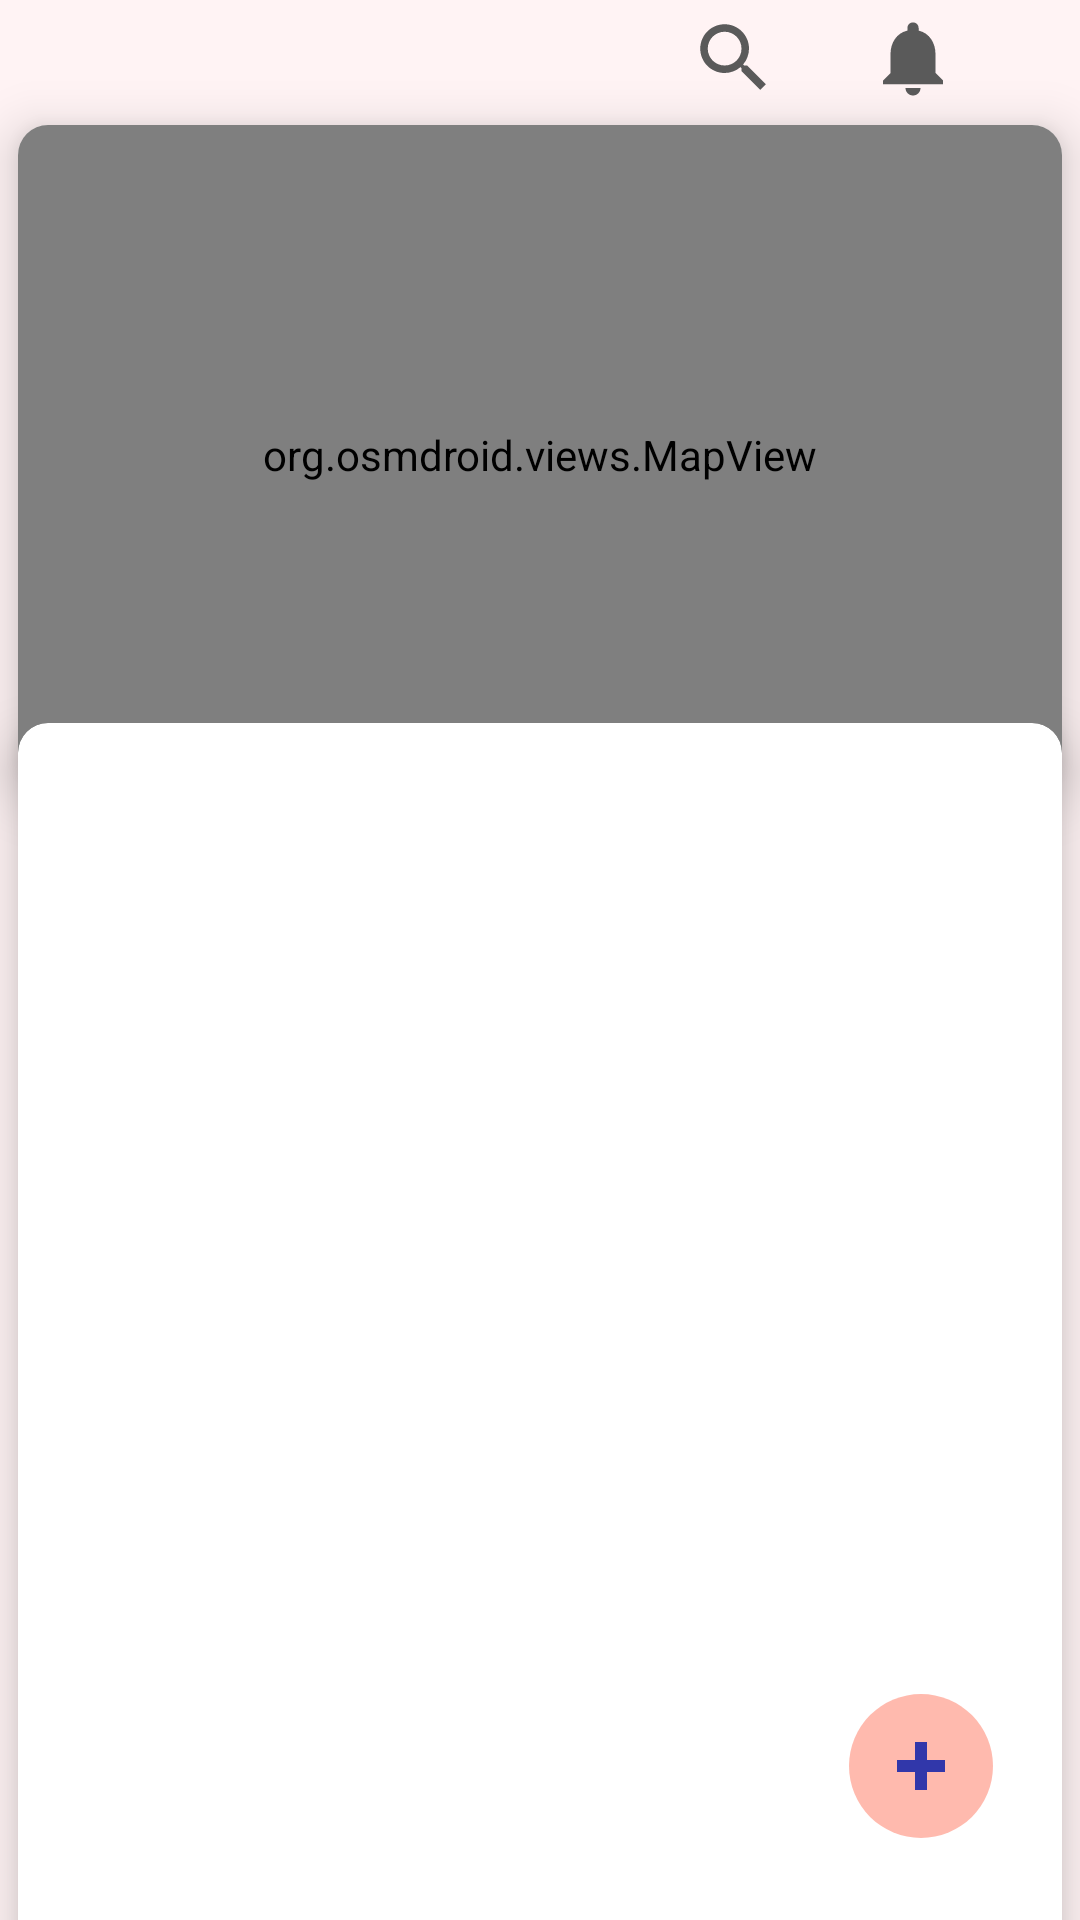

Point at icon controls on the screen. Image size 1080*1920, points as (x,y).
Add Button: (921,1766)
search: (733,57)
